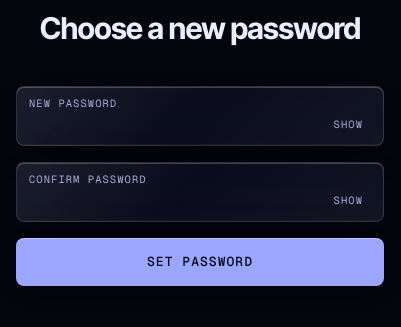
Test: auth link pages › reset validates and posts the token
In the password field labelled "New password": point(200, 125) [29,111,371,139], type "newpass12"
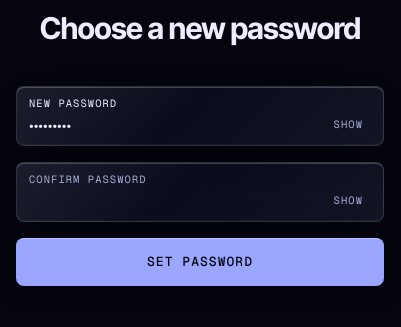
In the password field labelled "Confirm password": point(200, 201) [29,187,371,215], type "nope"
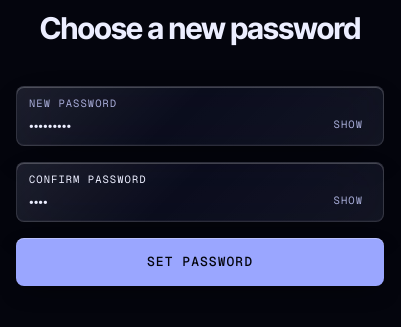
Click the button named "Set password": point(200, 262) [16,238,384,286]
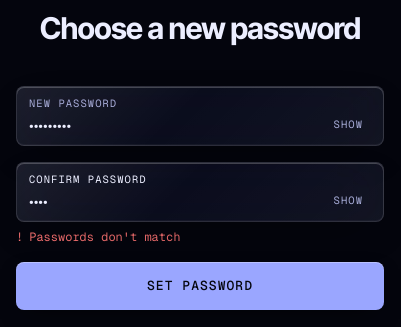
expect the text "Passwords don't match" is shown: met, box [29,229,180,245]
In the password field labelled "Confirm password": point(200, 201) [29,187,371,215], type "newpass12"
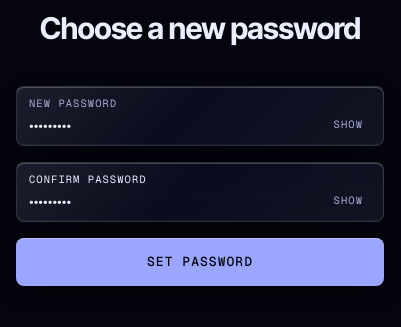
Click the button named "Set password": point(200, 262) [16,238,384,286]
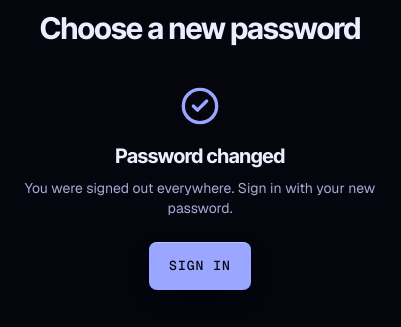
expect the heading "Password changed" is shown: met, box [115,144,285,168]
